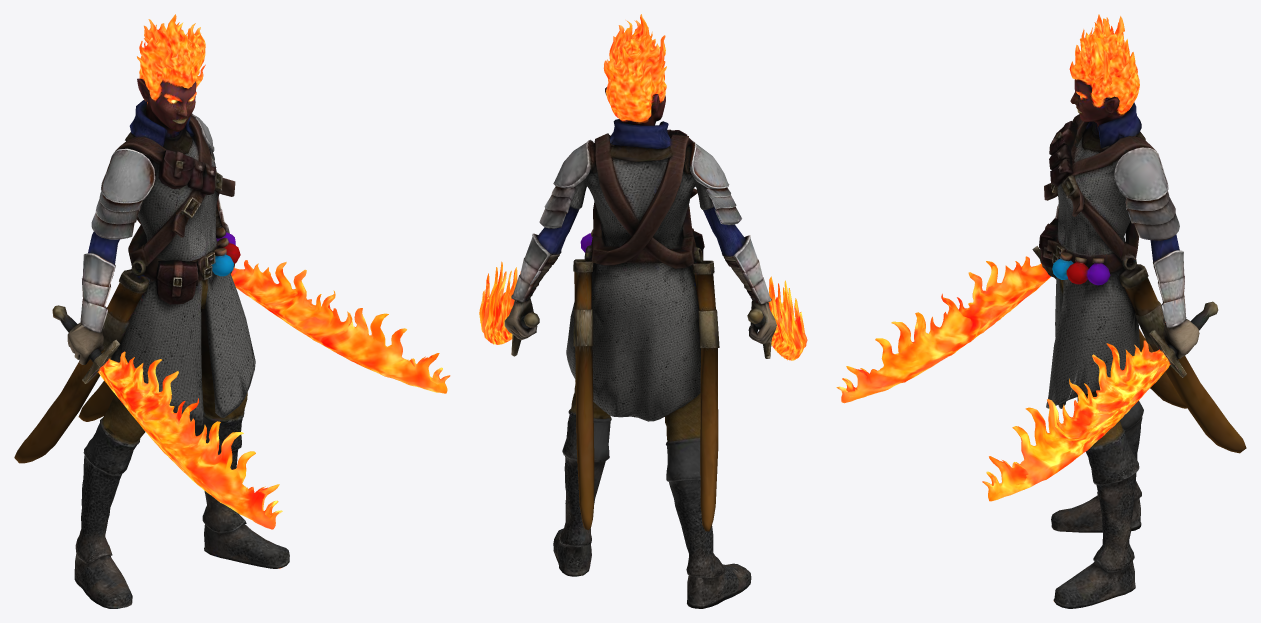
File: MZ4250 - Fire Genasi Female Blood Hunter.glb
The picture shows the model from 3 angles, left to right: view 1: azimuth 30°, elevation 25°; view 2: azimuth 150°, elevation 25°; view 3: azimuth 270°, elevation 25°; orthographic projection. The views are drawn at different scales.
Visible parts, largest first — view 1: Fire Genasi Female Blood HunterTwo Swords.001; view 2: Fire Genasi Female Blood HunterTwo Swords.001; view 3: Fire Genasi Female Blood HunterTwo Swords.001.
Part boxes in pixels (x1,y1,x2,y2): Fire Genasi Female Blood HunterTwo Swords.001: (14, 14, 450, 608); Fire Genasi Female Blood HunterTwo Swords.001: (479, 14, 807, 608); Fire Genasi Female Blood HunterTwo Swords.001: (836, 14, 1246, 608).
Bounding box in the file's own units: 58.7 × 92.73 × 62.96.
1 material, 1 textured.
